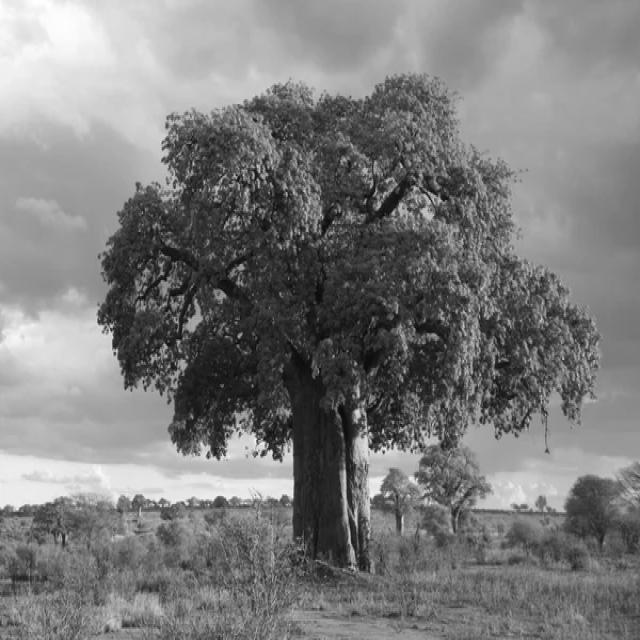Tree: (99, 75, 602, 569)
